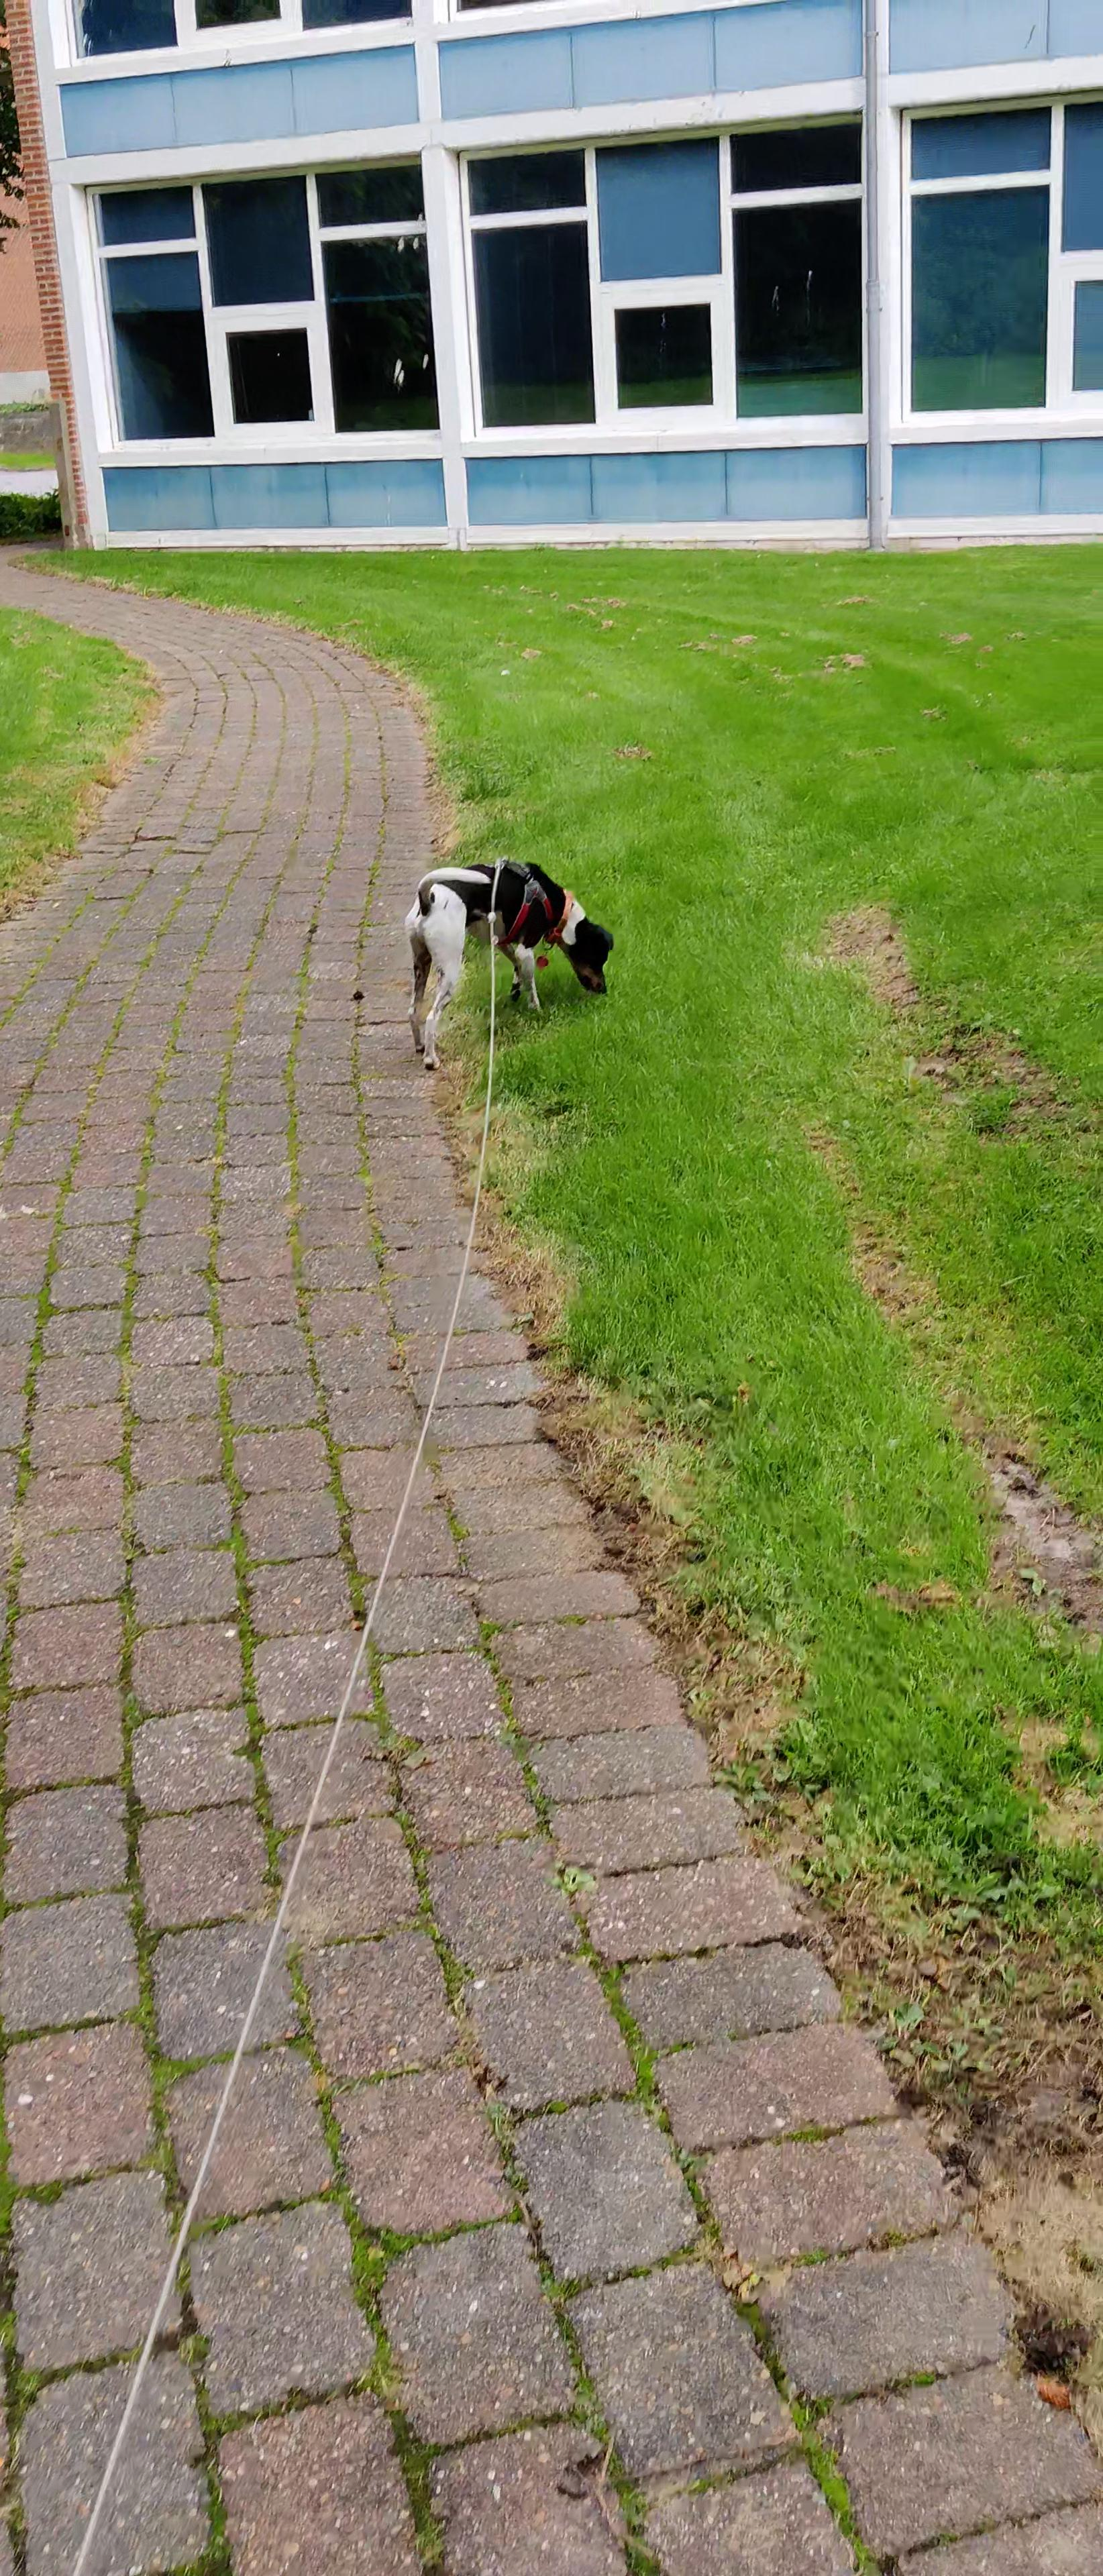Dog: (395, 849, 621, 1076)
